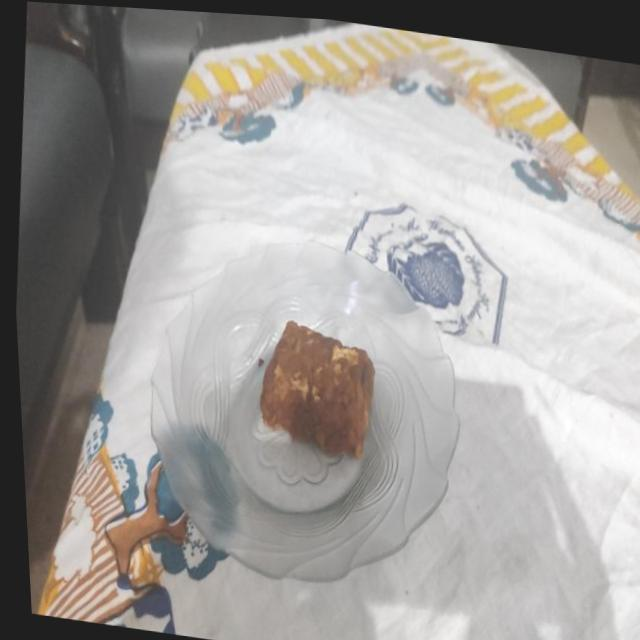tempe_goreng: (260, 321, 374, 458)
